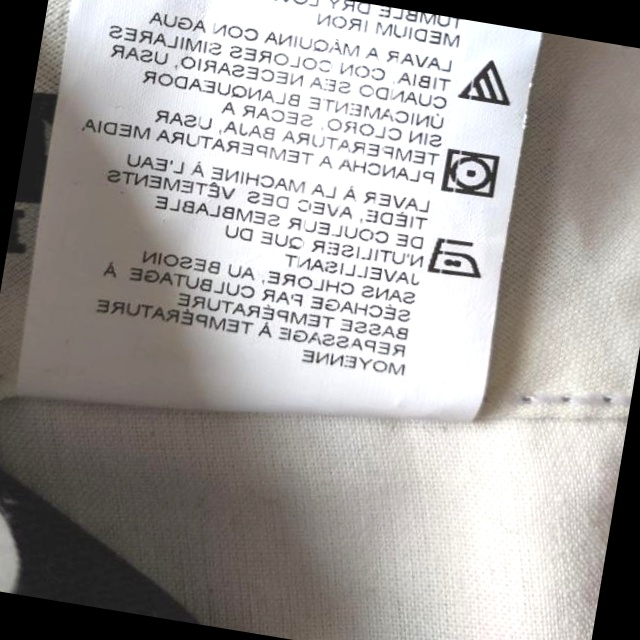iron_medium: (423, 231, 484, 281)
non_chlorine_bleach: (453, 50, 518, 115)
tumble_dry_low: (437, 143, 507, 202)
